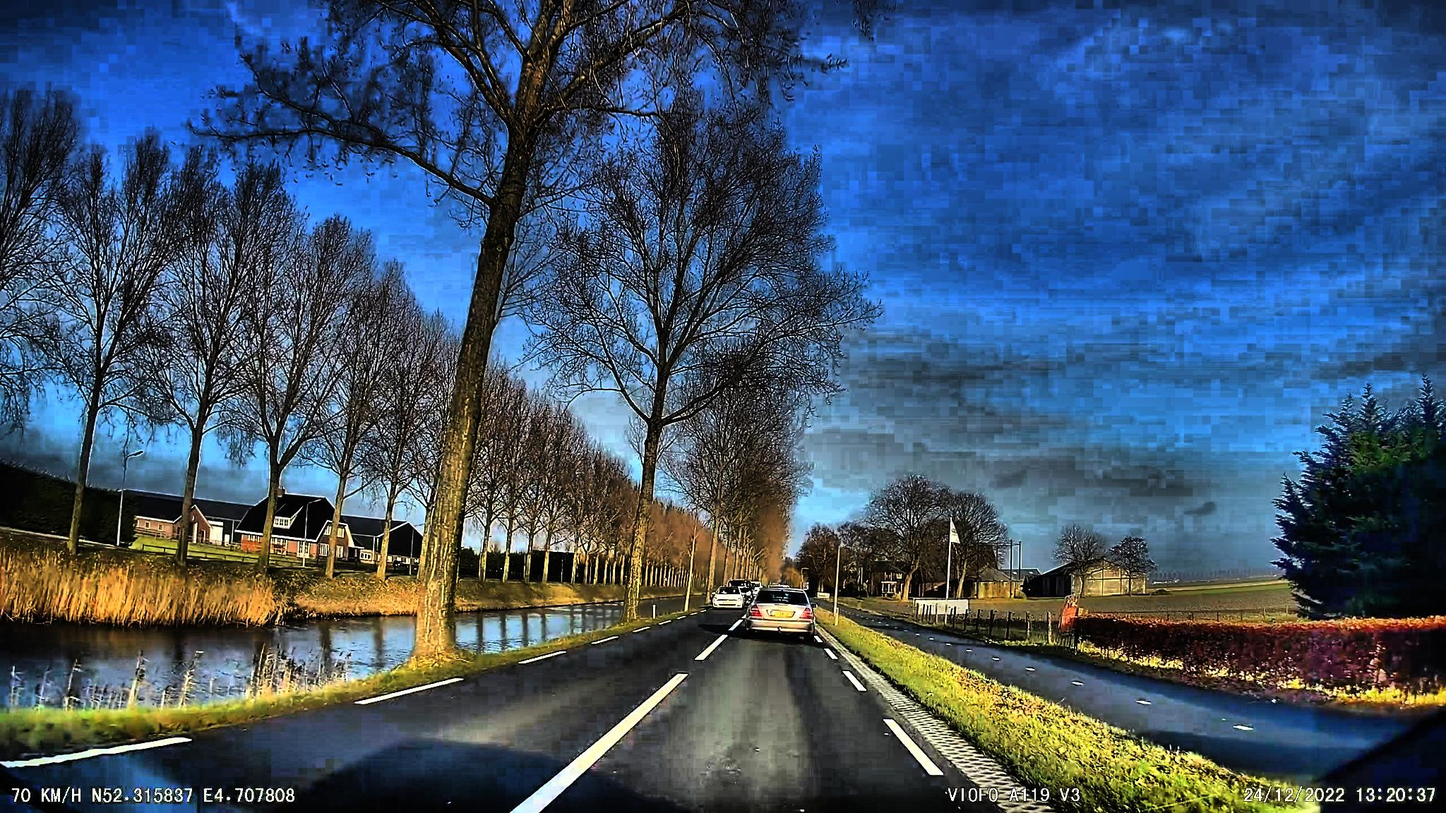Roads: (0, 614, 977, 813)
